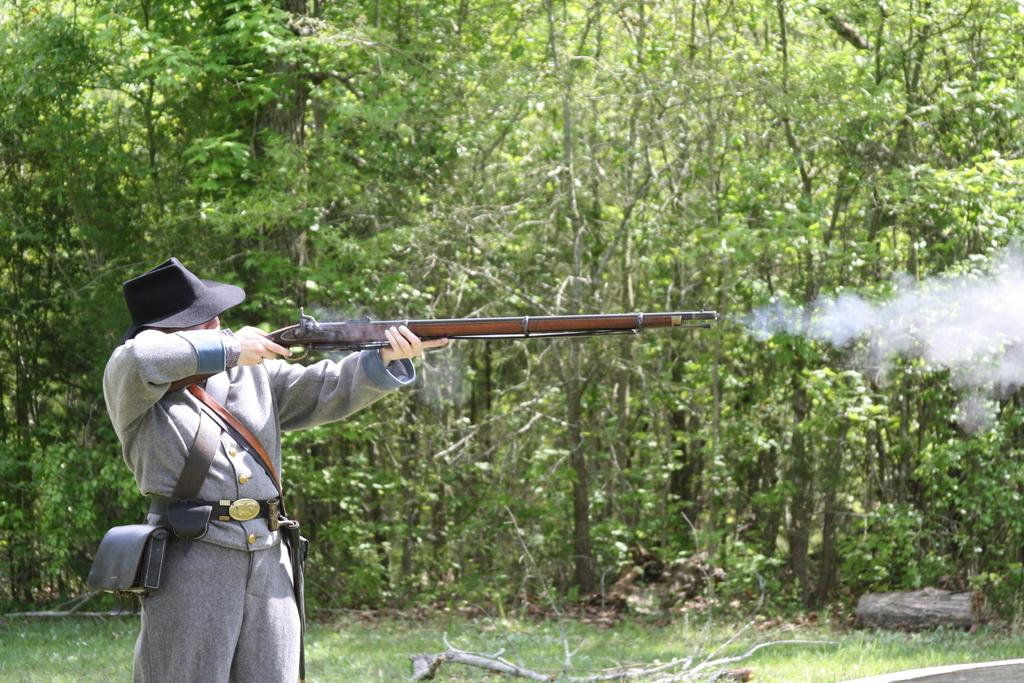Rifle: (268, 309, 712, 361)
